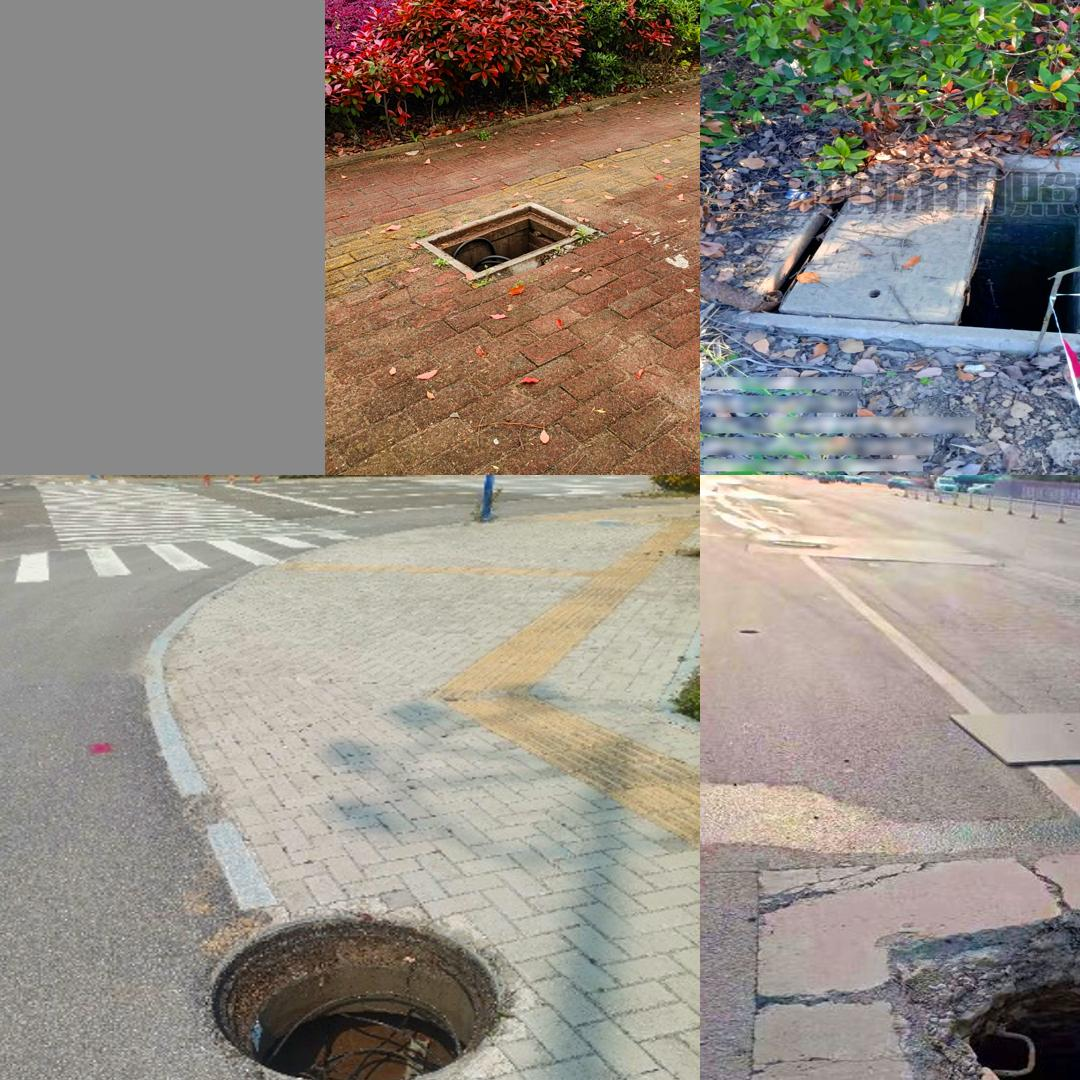lose: (704, 143, 1080, 354), (201, 910, 508, 1080), (866, 886, 1080, 1080), (403, 187, 602, 286)
